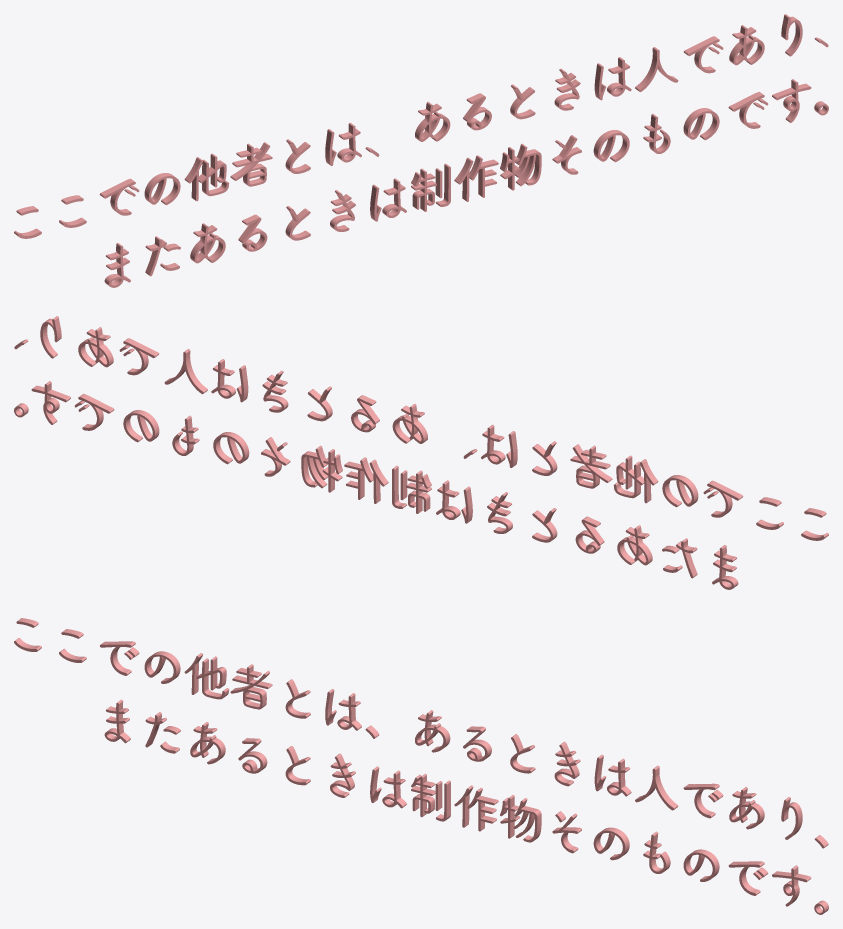
The picture shows the model from 3 angles, top to bottom: view 1: azimuth 30°, elevation 25°; view 2: azimuth 150°, elevation 25°; view 3: azimuth 330°, elevation 25°; orthographic projection.
Visible parts, largest first — view 1: Path (×11), キャップ 1 (×3); view 2: Path (×11), キャップ 2 (×3); view 3: Path (×5), キャップ 1 (×2).
Part boxes in pixels (x1=…): Path (×11): x1=184, y1=25, x2=761, y2=262; キャップ 1 (×3): x1=189, y1=147, x2=541, y2=211; Path (×11): x1=81, y1=327, x2=658, y2=564; キャップ 2 (×3): x1=301, y1=449, x2=653, y2=513; Path (×5): x1=189, y1=653, x2=541, y2=840; キャップ 1 (×2): x1=411, y1=777, x2=537, y2=842.
Size of the model in its own units: 2.17 by 0.2755 by 0.02.
